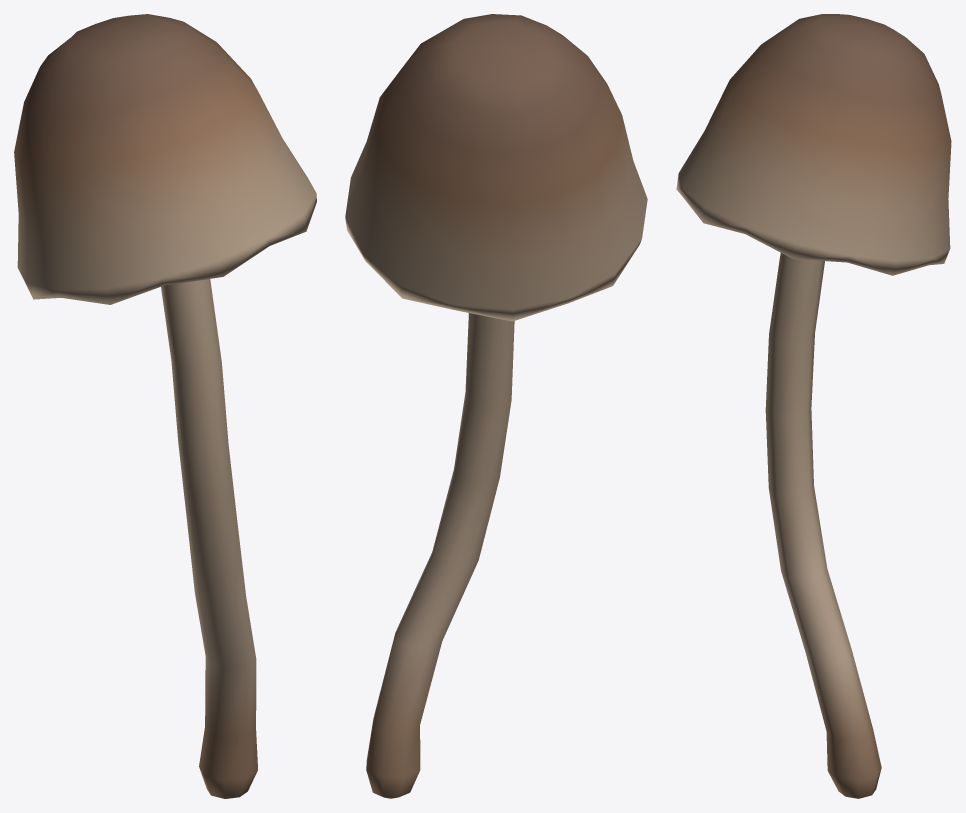
The model's file is plants-mushrooms-bell-cap-mushroom_v3.glb.
The picture shows the model from 3 angles, left to right: view 1: azimuth 30°, elevation 25°; view 2: azimuth 150°, elevation 25°; view 3: azimuth 270°, elevation 25°; orthographic projection. The views are drawn at different scales.
Visible parts, largest first — view 1: Bell Cap Mushroom_v3; view 2: Bell Cap Mushroom_v3; view 3: Bell Cap Mushroom_v3.
Part boxes in pixels (x1=…): Bell Cap Mushroom_v3: x1=14, y1=14, x2=316, y2=798; Bell Cap Mushroom_v3: x1=345, y1=14, x2=647, y2=798; Bell Cap Mushroom_v3: x1=676, y1=14, x2=951, y2=798.
Bounding box in the file's own units: 0.041 × 0.12 × 0.0409.
